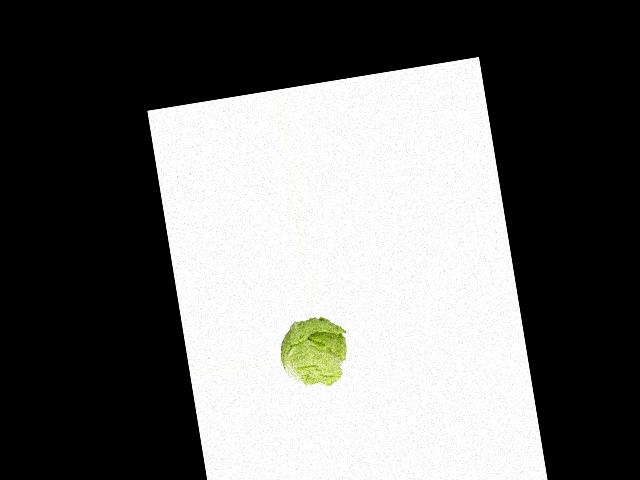lettuce: (273, 313, 352, 390)
